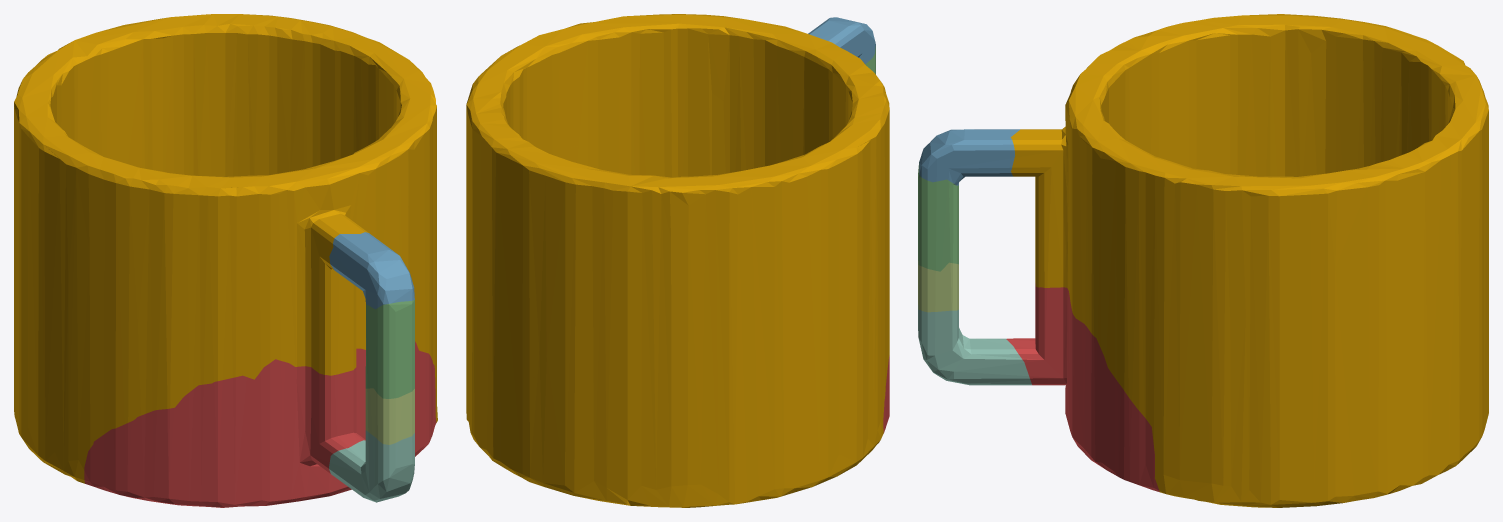
File: fractured_28_6pcs.glb
3 renders of one model, left to right at view 1: azimuth 30°, elevation 25°; view 2: azimuth 150°, elevation 25°; view 3: azimuth 270°, elevation 25°, orthographic.
Parts seen in each view (by area): view 1: piece_0.obj, piece_1.obj, piece_3.obj, piece_4.obj, piece_2.obj, piece_5.obj; view 2: piece_0.obj, piece_2.obj; view 3: piece_0.obj, piece_1.obj, piece_4.obj, piece_2.obj, piece_3.obj, piece_5.obj.
Boxes of the visible parts, x1,y1,x2,y2 form: piece_0.obj: (14,14,437,483); piece_1.obj: (84,341,436,507); piece_3.obj: (365,300,414,398); piece_4.obj: (329,430,414,502); piece_2.obj: (329,232,414,309); piece_5.obj: (365,388,414,444); piece_0.obj: (466,14,889,507); piece_2.obj: (808,17,875,64); piece_0.obj: (1011,14,1488,507); piece_1.obj: (1006,283,1159,492); piece_4.obj: (918,305,1031,385); piece_2.obj: (919,129,1019,185); piece_3.obj: (918,162,958,271); piece_5.obj: (918,261,958,312).
Size of the model in its own units: 0.7417 by 0.6213 by 1.
